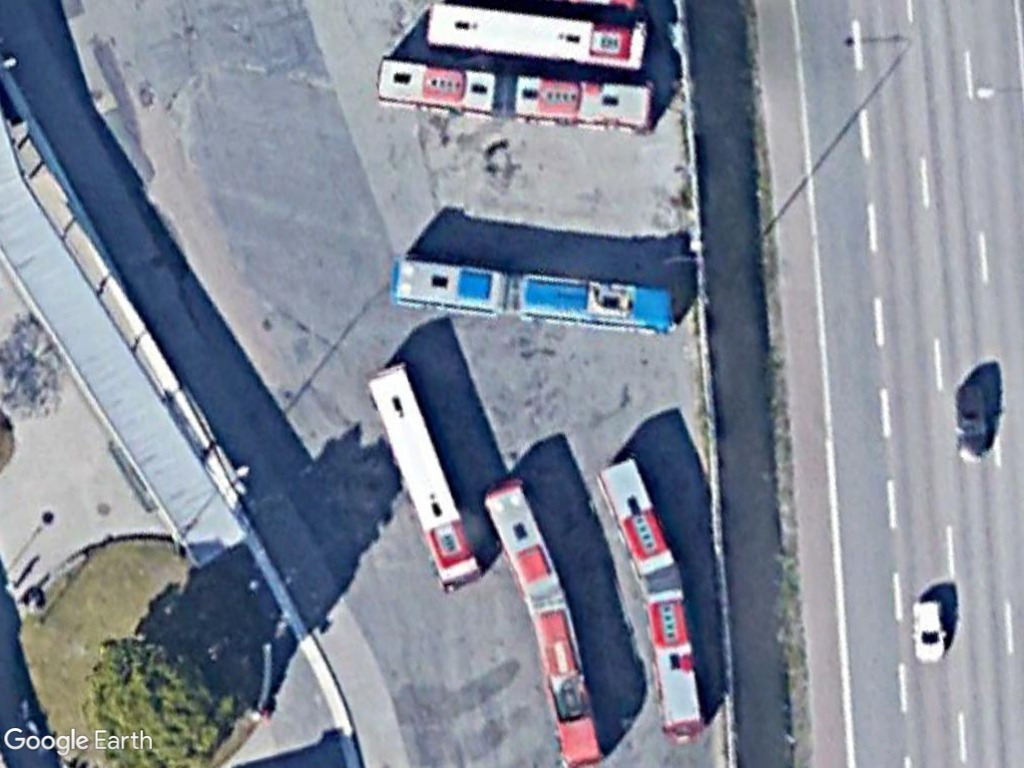bus: (361, 360, 488, 593), (425, 1, 654, 79), (531, 606, 606, 768), (597, 451, 682, 587), (515, 269, 680, 338), (484, 473, 570, 601), (512, 70, 661, 134), (646, 592, 706, 743), (375, 53, 505, 120), (390, 250, 512, 319)
car: (951, 382, 996, 466), (908, 596, 952, 665)
